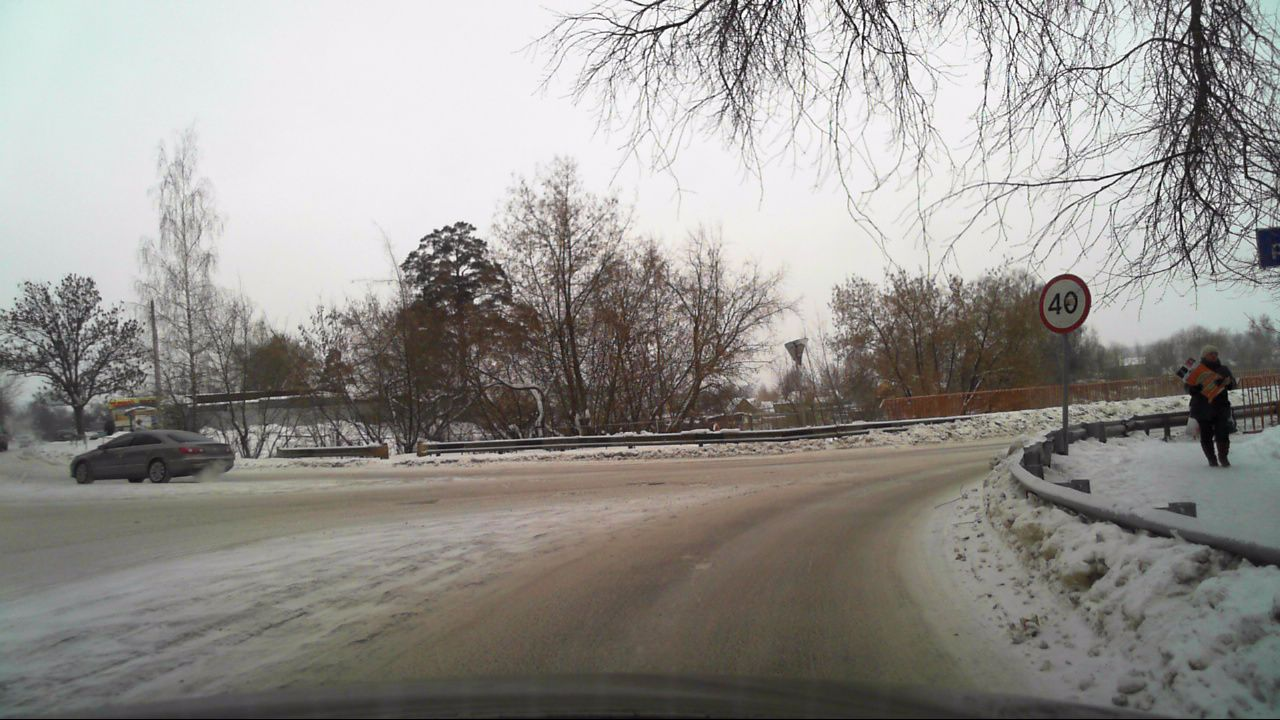speed_warning_40: (1039, 272, 1092, 333)
